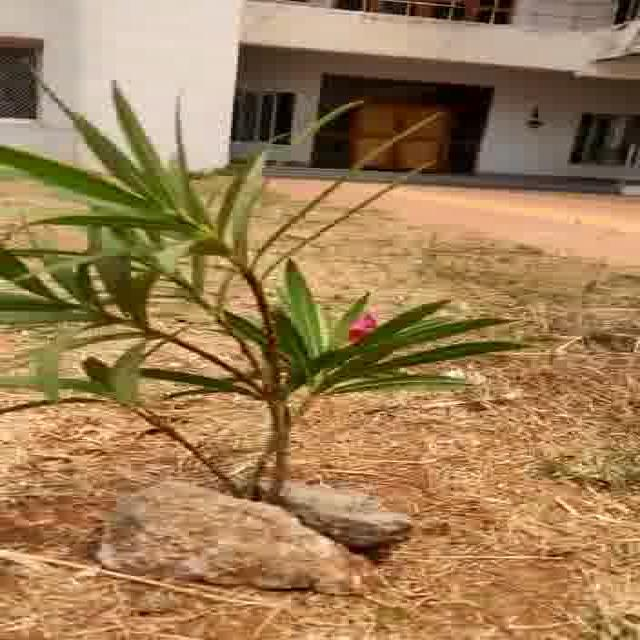Oleander: (0, 86, 471, 490)
